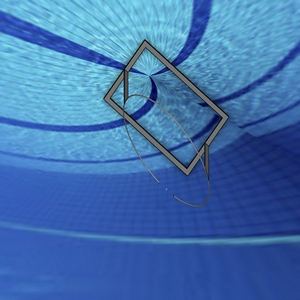circle: (102, 39, 228, 209)
